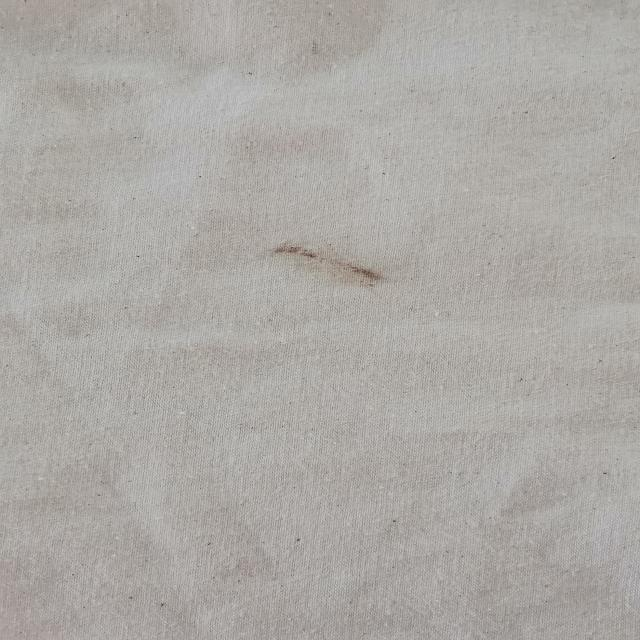taaaches: (246, 237, 417, 294)
